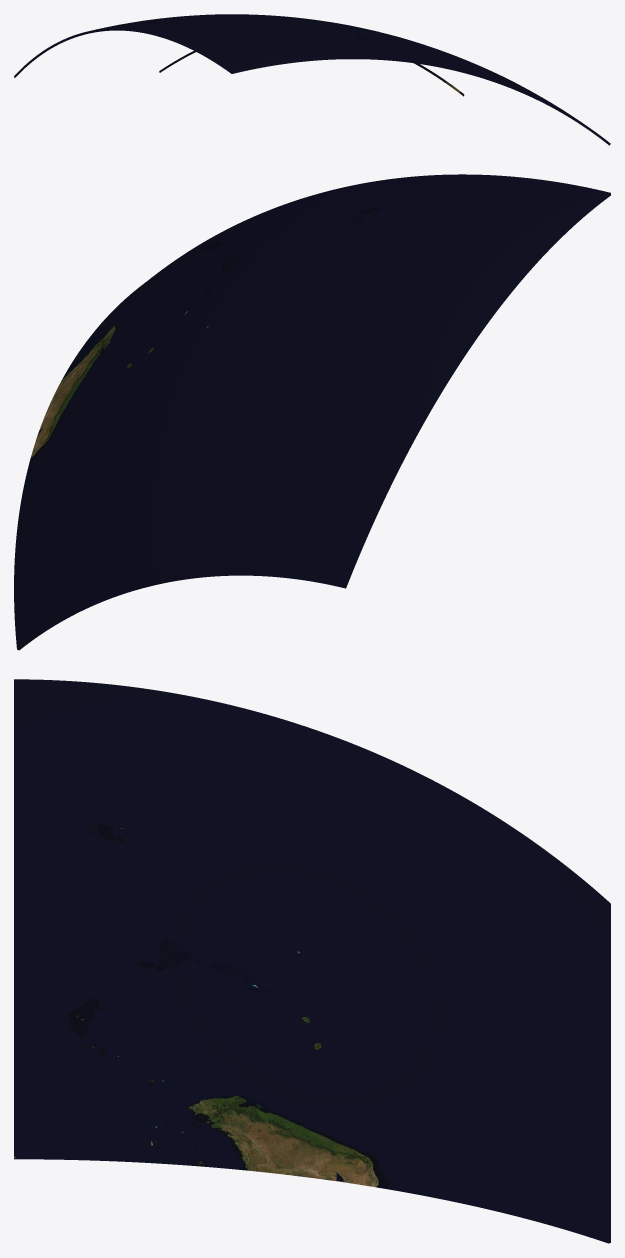
The picture shows the model from 3 angles, top to bottom: view 1: azimuth 30°, elevation 25°; view 2: azimuth 150°, elevation 25°; view 3: azimuth 270°, elevation 25°; orthographic projection. The views are drawn at different scales.
Visible parts, largest first — view 1: DefaultName.009, DefaultName.012, DefaultName.006, DefaultName.003; view 2: DefaultName.006, DefaultName.009, DefaultName.003, DefaultName.012; view 3: DefaultName.012, DefaultName.003, DefaultName.009, DefaultName.006.
Boxes of the visible parts, left/top/right/bottom form: DefaultName.009: left=114, top=14, right=436, bottom=73; DefaultName.012: left=359, top=27, right=610, bottom=145; DefaultName.006: left=14, top=15, right=194, bottom=77; DefaultName.003: left=159, top=51, right=464, bottom=96; DefaultName.006: left=167, top=333, right=467, bottom=588; DefaultName.009: left=235, top=174, right=610, bottom=351; DefaultName.003: left=14, top=342, right=235, bottom=650; DefaultName.012: left=39, top=184, right=359, bottom=430; DefaultName.012: left=14, top=875, right=336, bottom=1180; DefaultName.003: left=336, top=918, right=610, bottom=1243; DefaultName.009: left=14, top=679, right=336, bottom=918; DefaultName.006: left=336, top=738, right=610, bottom=1041.
Bounding box in the file's own units: 45100 × 31962 × 44873.
4 materials, 4 textured.
